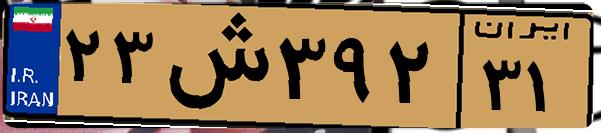1: (525, 38, 570, 115)
2: (385, 28, 445, 110), (57, 26, 110, 100)
3: (270, 28, 330, 110), (475, 38, 525, 113), (110, 28, 158, 98)
9: (330, 28, 385, 110)
ش: (158, 12, 270, 120)
